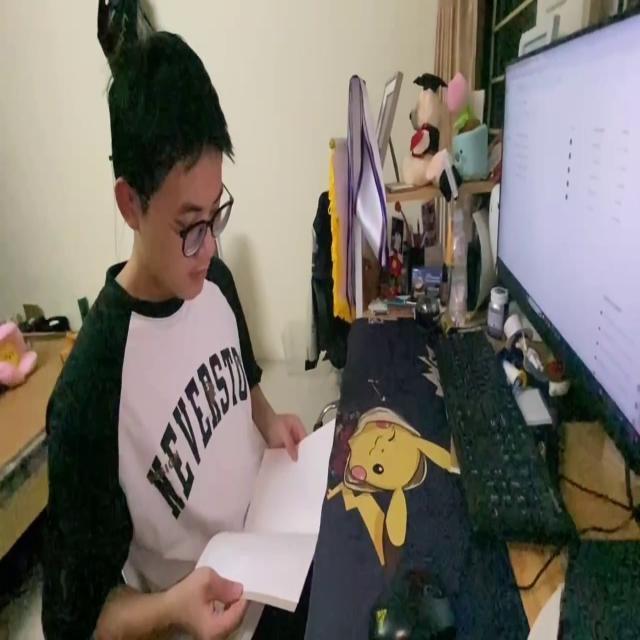laptop: (492, 1, 640, 483)
phone: (190, 417, 338, 619)
student: (37, 26, 312, 640)
